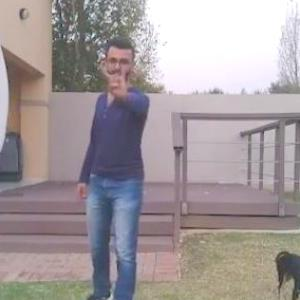takeoff-hand: (99, 60, 133, 100)
